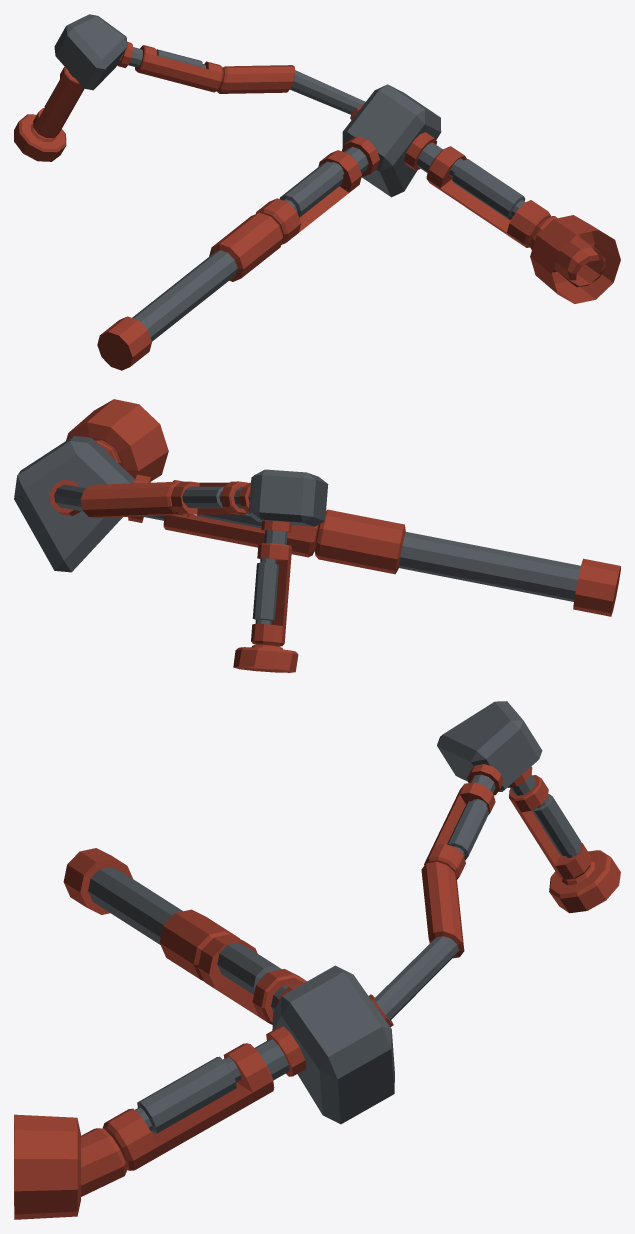
File: Fighter_03_Pipes_04_Red.fbx
3 renders of one model, top to bottom at view 1: azimuth 30°, elevation 25°; view 2: azimuth 150°, elevation 25°; view 3: azimuth 270°, elevation 25°, orthographic. The views are drawn at different scales.
Parts seen in each view (by area): view 1: Fighter_03_Pipes_04_Red; view 2: Fighter_03_Pipes_04_Red; view 3: Fighter_03_Pipes_04_Red.
Boxes of the visible parts, bbox=[...] form: Fighter_03_Pipes_04_Red: bbox=[14, 14, 620, 370]; Fighter_03_Pipes_04_Red: bbox=[14, 399, 620, 672]; Fighter_03_Pipes_04_Red: bbox=[14, 701, 620, 1219].
Bounding box in the file's own units: 462 × 203 × 377.
Materials: 1 (1 with a texture image).
